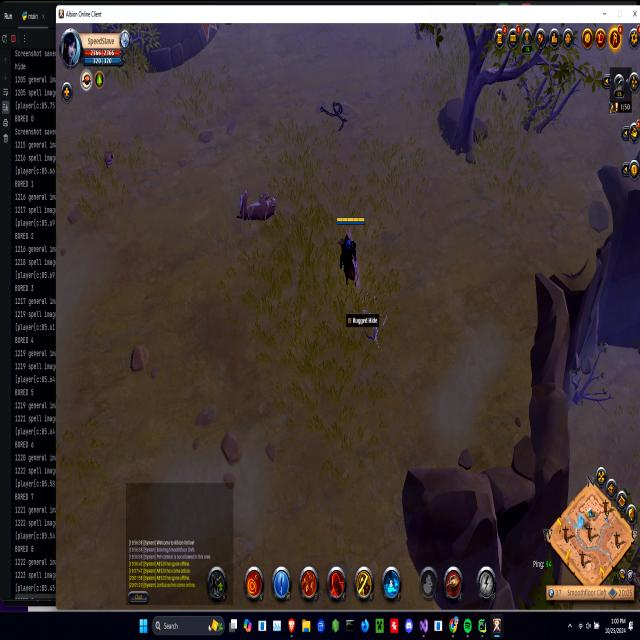mob: (235, 185, 280, 227)
red: (334, 211, 364, 293)
